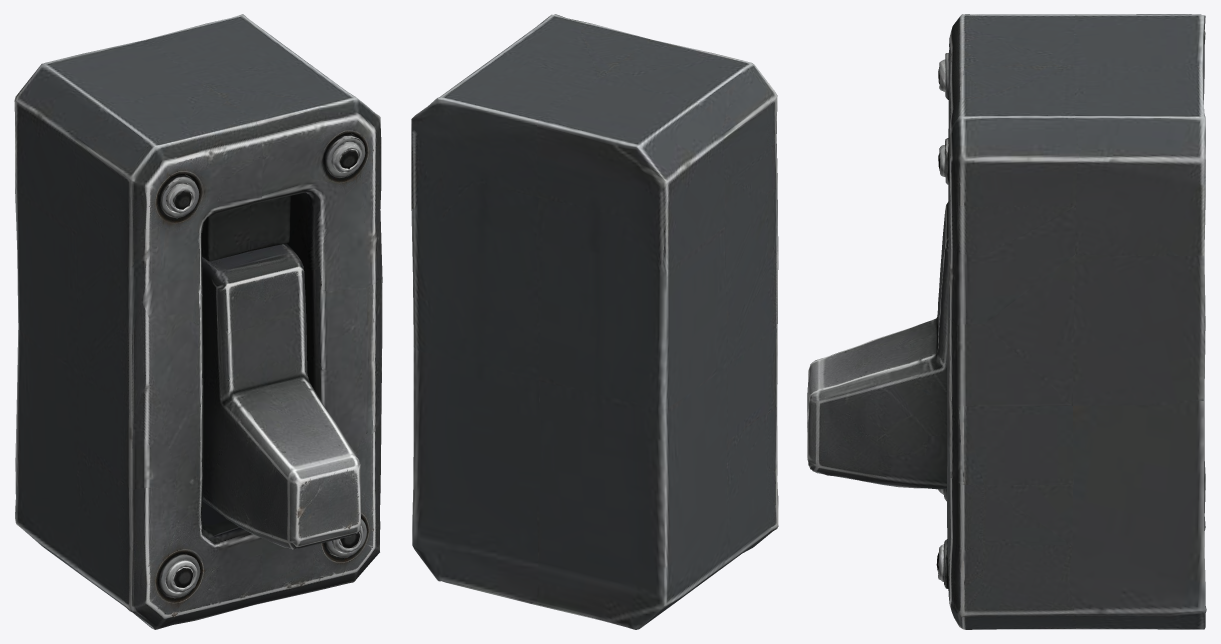
Rendered from Switch.glb.
The picture shows the model from 3 angles, left to right: view 1: azimuth 30°, elevation 25°; view 2: azimuth 150°, elevation 25°; view 3: azimuth 270°, elevation 25°; orthographic projection. The views are drawn at different scales.
Size of the model in its own units: 0.5508 by 1 by 0.707.
Materials: 1 (1 with a texture image).
